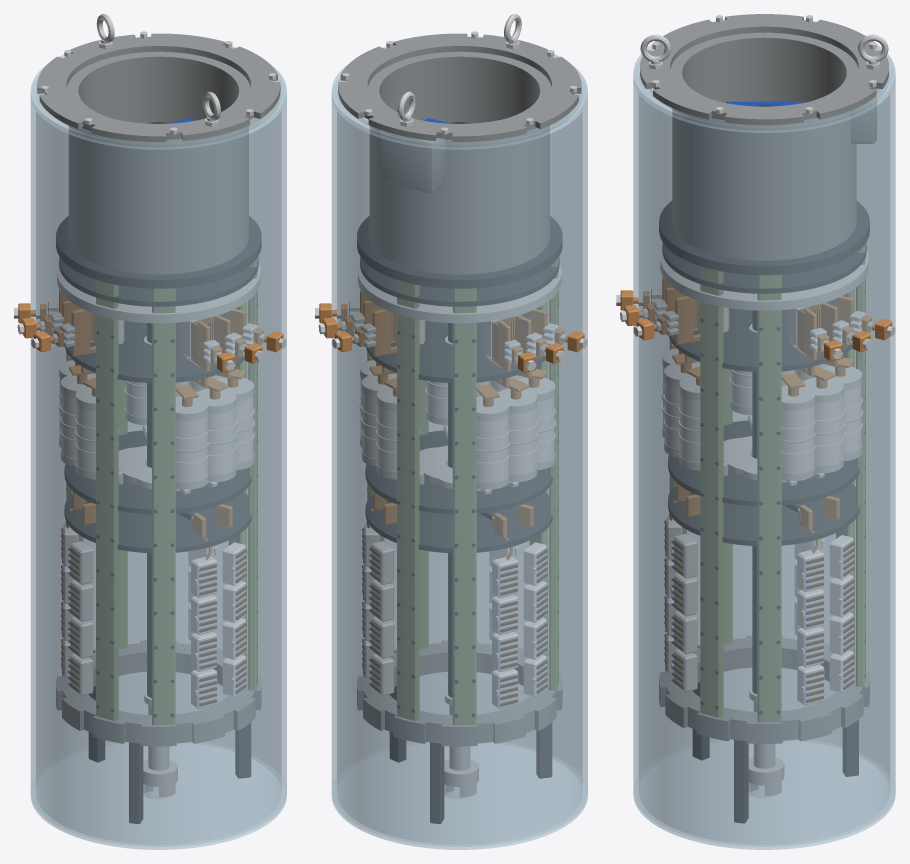
The model's file is chvt-insert.glb.
The picture shows the model from 3 angles, left to right: view 1: azimuth 30°, elevation 25°; view 2: azimuth 150°, elevation 25°; view 3: azimuth 270°, elevation 25°; orthographic projection. The views are drawn at different scales.
Visible parts, largest first — view 1: comp, ins-frame, resistor, vi, main-contact, comp-term, ins-coupling, ins-shaft, ins-cam, ins-term, z2-contact, lift; view 2: comp, ins-frame, resistor, vi, main-contact, comp-term, ins-coupling, ins-shaft, ins-cam, ins-term, z2-contact, lift; view 3: comp, ins-frame, resistor, vi, main-contact, comp-term, ins-shaft, ins-coupling, ins-cam, ins-term, z2-contact, lift.
Part boxes in pixels (x1,y1,x2,y2): comp: [30, 36, 286, 849]; ins-frame: [37, 31, 280, 823]; resistor: [61, 508, 246, 708]; vi: [58, 355, 254, 489]; main-contact: [59, 290, 245, 371]; comp-term: [14, 303, 286, 372]; ins-coupling: [143, 704, 177, 797]; ins-shaft: [144, 323, 151, 705]; ins-cam: [94, 425, 217, 494]; ins-term: [47, 301, 257, 363]; z2-contact: [73, 491, 232, 538]; lift: [96, 14, 220, 126]; comp: [331, 36, 587, 849]; ins-frame: [338, 31, 581, 823]; resistor: [362, 508, 547, 708]; vi: [359, 355, 555, 489]; main-contact: [360, 290, 546, 371]; comp-term: [315, 303, 587, 372]; ins-coupling: [444, 705, 478, 797]; ins-shaft: [444, 323, 452, 705]; ins-cam: [395, 425, 518, 494]; ins-term: [349, 301, 558, 363]; z2-contact: [374, 491, 533, 538]; lift: [397, 14, 521, 126]; comp: [633, 20, 895, 849]; ins-frame: [640, 14, 888, 823]; resistor: [664, 500, 854, 705]; vi: [661, 343, 862, 480]; main-contact: [662, 277, 853, 360]; comp-term: [616, 290, 895, 361]; ins-shaft: [749, 310, 757, 701]; ins-coupling: [748, 701, 784, 796]; ins-cam: [698, 415, 824, 485]; ins-term: [651, 288, 865, 351]; z2-contact: [676, 483, 839, 530]; lift: [640, 34, 888, 69].
Size of the model in its own units: 0.509 by 1.53 by 0.509.
